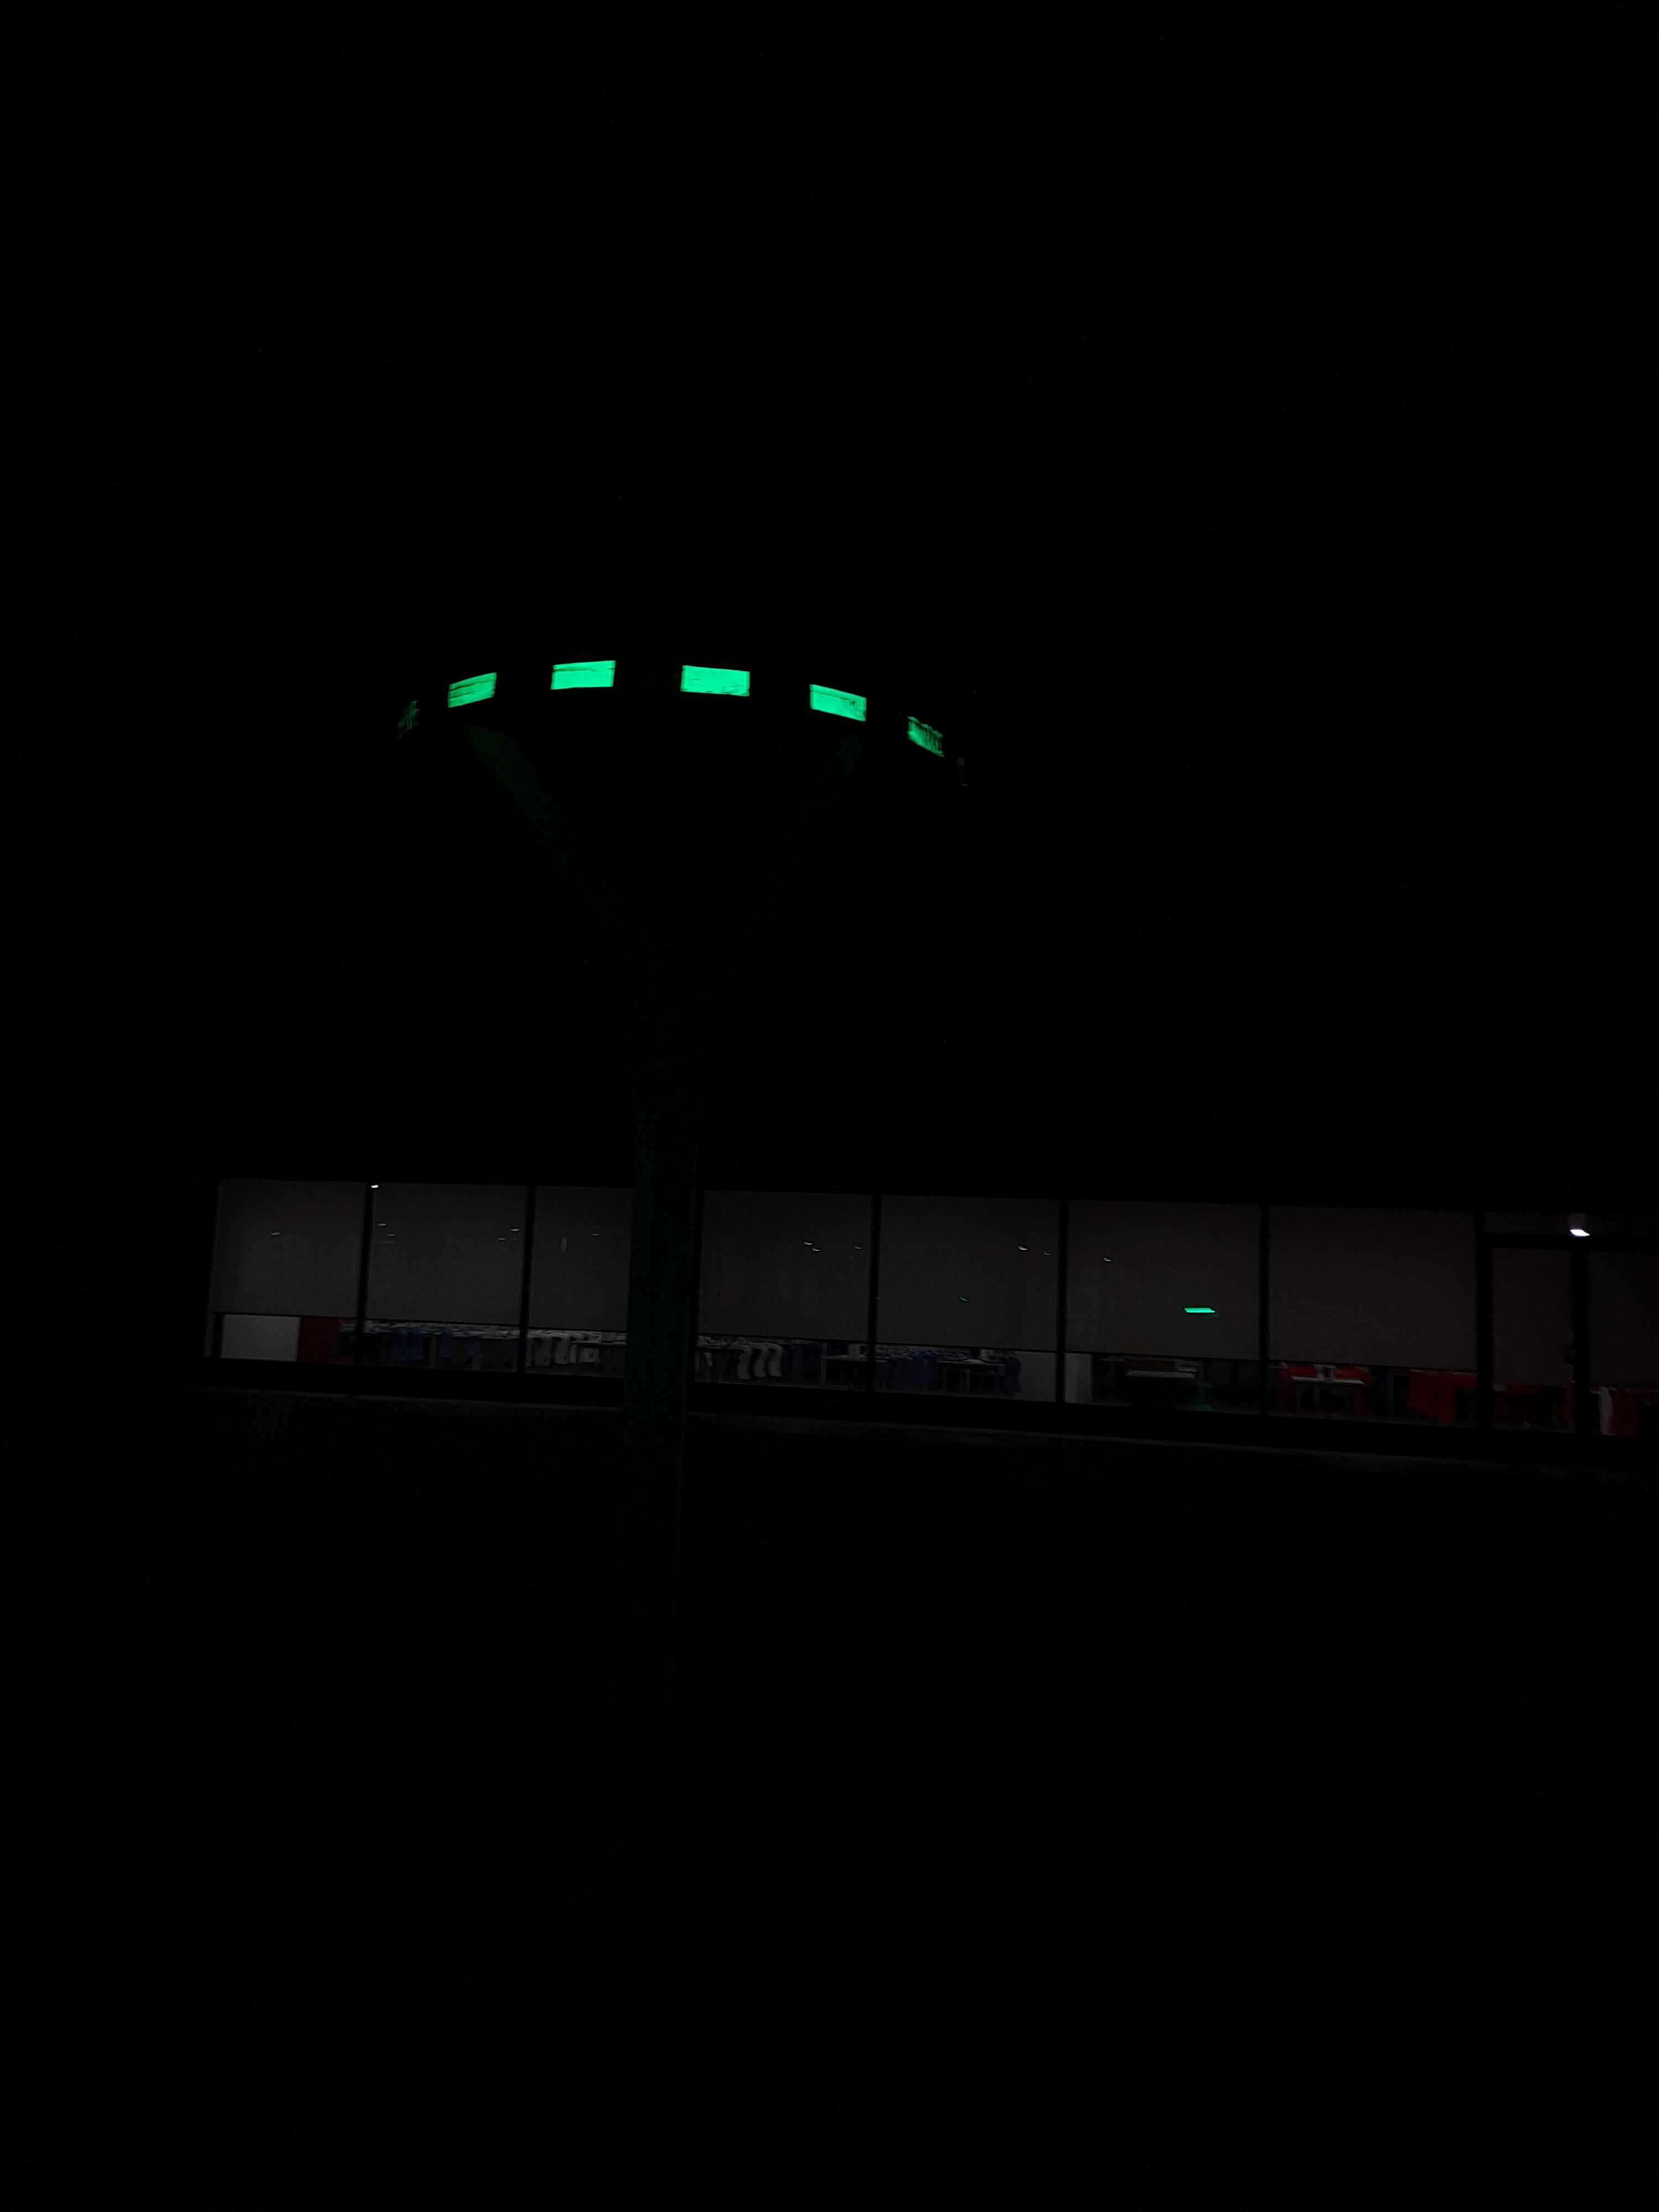hoop: (439, 651, 955, 765)
